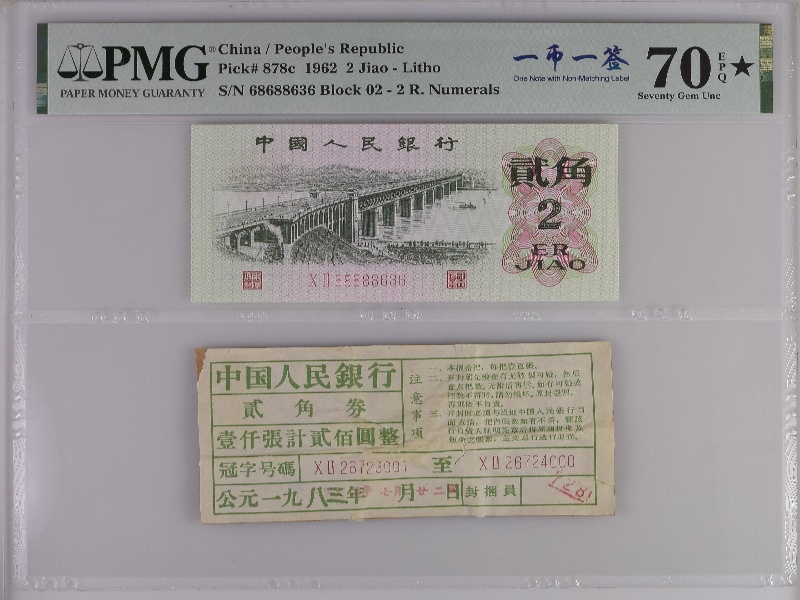papernote: (189, 121, 623, 306), (191, 337, 621, 523)
